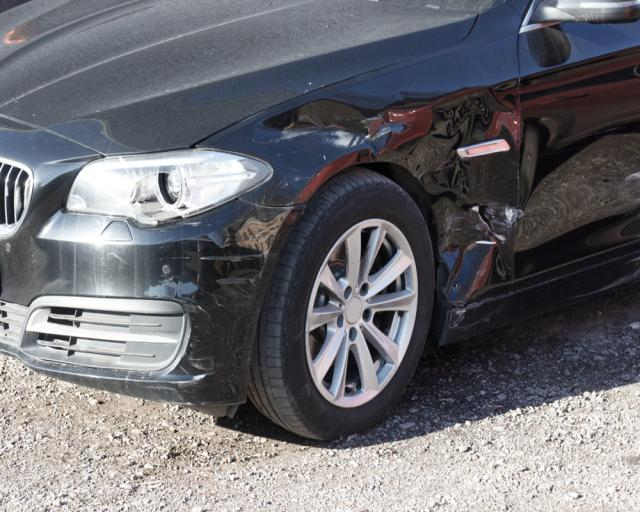crack: (477, 203, 494, 235)
dent: (268, 87, 514, 296)
lamp broken: (65, 148, 270, 224)
scratch: (150, 216, 265, 373)
